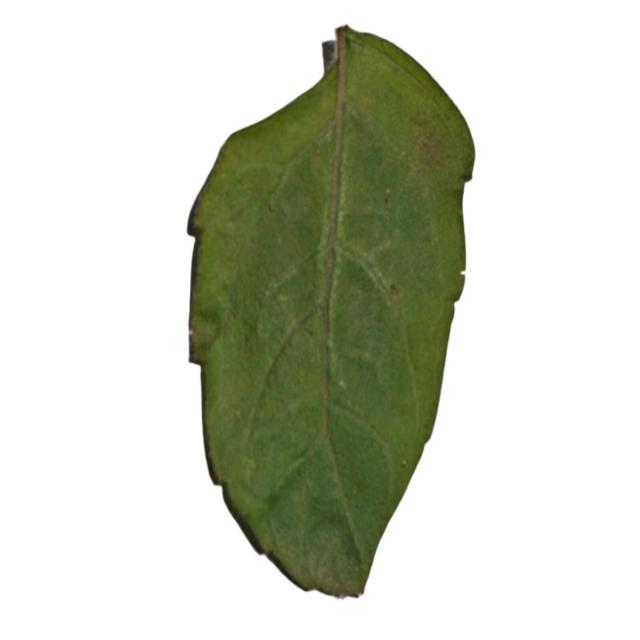tulsi: (187, 29, 477, 599)
